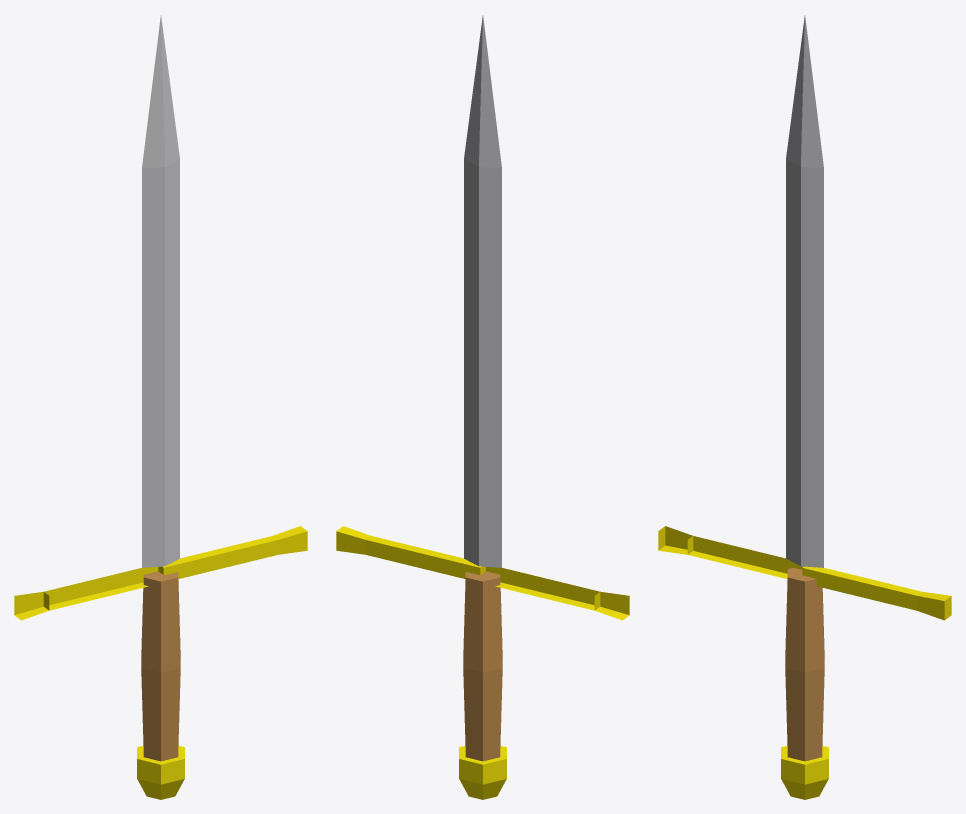
The model's file is sword.glb.
3 renders of one model, left to right at view 1: azimuth 30°, elevation 25°; view 2: azimuth 150°, elevation 25°; view 3: azimuth 330°, elevation 25°, orthographic.
Parts seen in each view (by area): view 1: blade, grip, crossguard, pommel; view 2: blade, grip, crossguard, pommel; view 3: blade, grip, crossguard, pommel.
Part boxes in pixels (<box>): blade: <box>142,15,179,567</box>; grip: <box>141,571,180,761</box>; crossguard: <box>14,526,307,620</box>; pommel: <box>137,746,184,799</box>; blade: <box>464,15,501,567</box>; grip: <box>463,571,502,761</box>; crossguard: <box>336,526,629,620</box>; pommel: <box>459,746,506,799</box>; blade: <box>786,15,823,567</box>; grip: <box>785,567,824,761</box>; crossguard: <box>658,526,951,620</box>; pommel: <box>781,746,828,799</box>.
Size of the model in its own units: 3 by 7.8 by 0.433.
